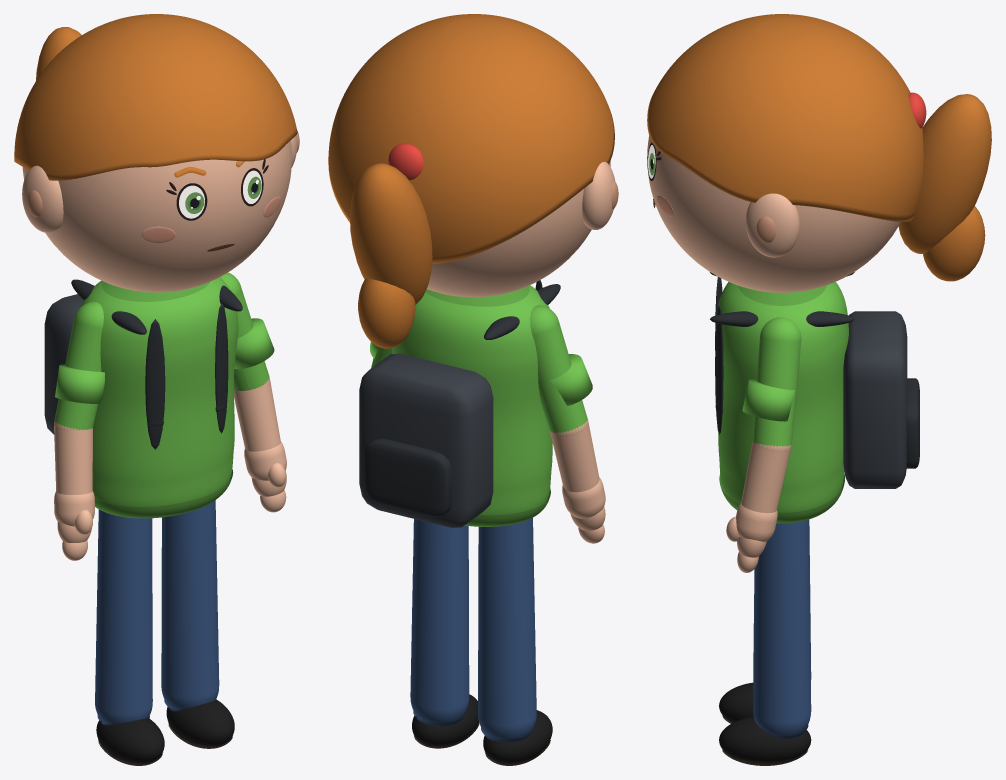
The model's file is leerling_c.glb.
3 views of the same model, side by side, from view 1: azimuth 30°, elevation 25°; view 2: azimuth 150°, elevation 25°; view 3: azimuth 270°, elevation 25° (orthographic).
Parts seen in each view (by area): view 1: leerling_c_haar, leerling_c_romp, leerling_c_hoofd, leerling_c_been_R, leerling_c_been_L, leerling_c_bovenarm_R, leerling_c_rugzak, leerling_c_onderarm_R, leerling_c_onderarm_L, leerling_c_schoen_R, leerling_c_schoen_L, leerling_c_rugzak_band_R (+11 smaller); view 2: leerling_c_haar, leerling_c_romp, leerling_c_rugzak, leerling_c_been_R, leerling_c_been_L, leerling_c_staart, leerling_c_hoofd, leerling_c_rugzak_vak, leerling_c_bovenarm_R, leerling_c_staart_punt, leerling_c_onderarm_R, leerling_c_schoen_R (+8 smaller); view 3: leerling_c_haar, leerling_c_romp, leerling_c_hoofd, leerling_c_been_L, leerling_c_rugzak, leerling_c_staart, leerling_c_bovenarm_L, leerling_c_staart_punt, leerling_c_schoen_L, leerling_c_onderarm_L, leerling_c_oor_L, leerling_c_mouwzoom_L (+7 smaller).
Boxes of the visible parts, x1,y1,x2,y2 form: leerling_c_haar: [14, 14, 297, 180]; leerling_c_romp: [81, 277, 238, 506]; leerling_c_hoofd: [22, 140, 291, 292]; leerling_c_been_R: [95, 509, 152, 724]; leerling_c_been_L: [161, 500, 219, 709]; leerling_c_bovenarm_R: [54, 301, 103, 430]; leerling_c_rugzak: [44, 294, 83, 434]; leerling_c_onderarm_R: [54, 424, 92, 494]; leerling_c_onderarm_L: [234, 379, 280, 451]; leerling_c_schoen_R: [96, 718, 164, 763]; leerling_c_schoen_L: [166, 699, 234, 746]; leerling_c_rugzak_band_R: [145, 319, 165, 449]; leerling_c_haar: [328, 14, 614, 264]; leerling_c_romp: [392, 285, 552, 515]; leerling_c_rugzak: [359, 353, 493, 528]; leerling_c_been_R: [478, 518, 536, 739]; leerling_c_been_L: [410, 519, 469, 723]; leerling_c_staart: [350, 163, 432, 304]; leerling_c_hoofd: [427, 161, 610, 297]; leerling_c_rugzak_vak: [364, 438, 451, 517]; leerling_c_bovenarm_R: [530, 305, 587, 436]; leerling_c_staart_punt: [358, 278, 415, 348]; leerling_c_onderarm_R: [550, 422, 599, 492]; leerling_c_schoen_R: [483, 710, 552, 763]; leerling_c_haar: [647, 14, 923, 221]; leerling_c_romp: [715, 282, 848, 512]; leerling_c_hoofd: [647, 135, 900, 292]; leerling_c_been_L: [753, 519, 811, 736]; leerling_c_rugzak: [843, 311, 907, 488]; leerling_c_staart: [898, 94, 991, 253]; leerling_c_bovenarm_L: [752, 317, 801, 451]; leerling_c_staart_punt: [923, 206, 985, 281]; leerling_c_schoen_L: [719, 716, 811, 761]; leerling_c_onderarm_L: [741, 442, 790, 513]; leerling_c_oor_L: [745, 193, 799, 257]; leerling_c_mouwzoom_L: [742, 378, 795, 421].
Size of the model in its own units: 0.6542 by 1.67 by 0.7272.
